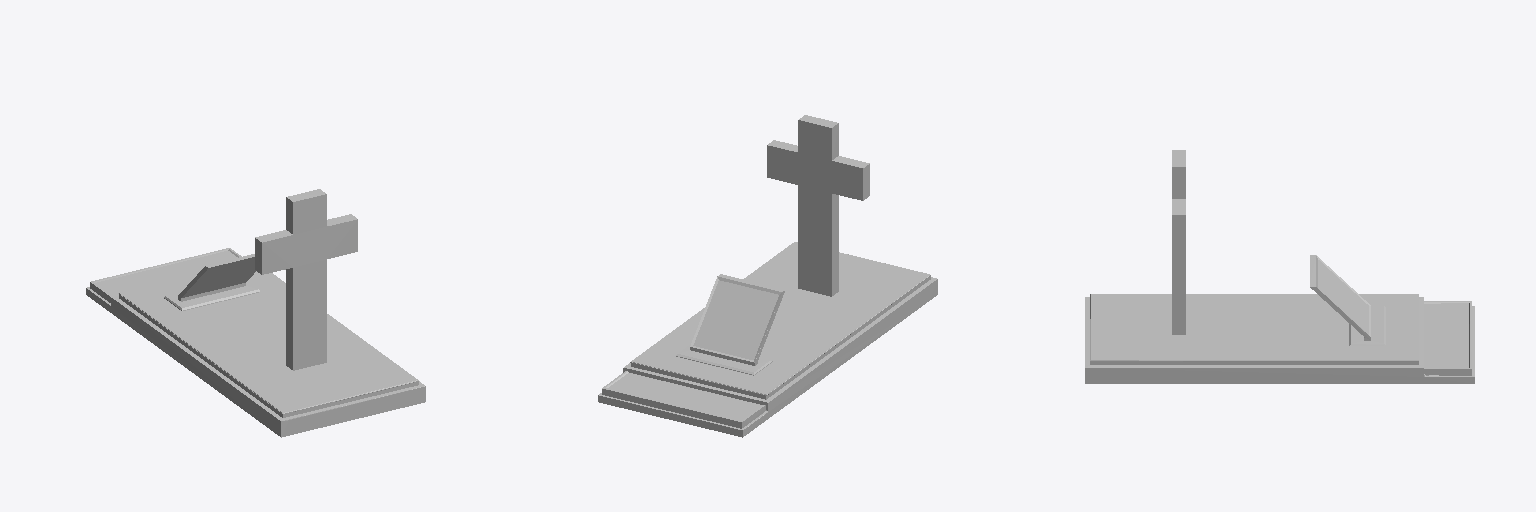
Rendered from grave4.obj.
The picture shows the model from 3 angles: view 1: azimuth 30°, elevation 25°; view 2: azimuth 150°, elevation 25°; view 3: azimuth 270°, elevation 25°; orthographic projection.
Parts seen in each view (by area): view 1: Plane.001, Cube.003; view 2: Plane.001, Cube.003; view 3: Plane.001, Cube.003.
Boxes of the visible parts, x1,y1,x2,y2 form: Plane.001: [86, 248, 425, 437]; Cube.003: [255, 189, 357, 370]; Plane.001: [598, 242, 937, 437]; Cube.003: [767, 115, 869, 296]; Plane.001: [1085, 255, 1474, 383]; Cube.003: [1172, 150, 1185, 334].
Size of the model in its own units: 14.06 by 18.08 by 32.76.